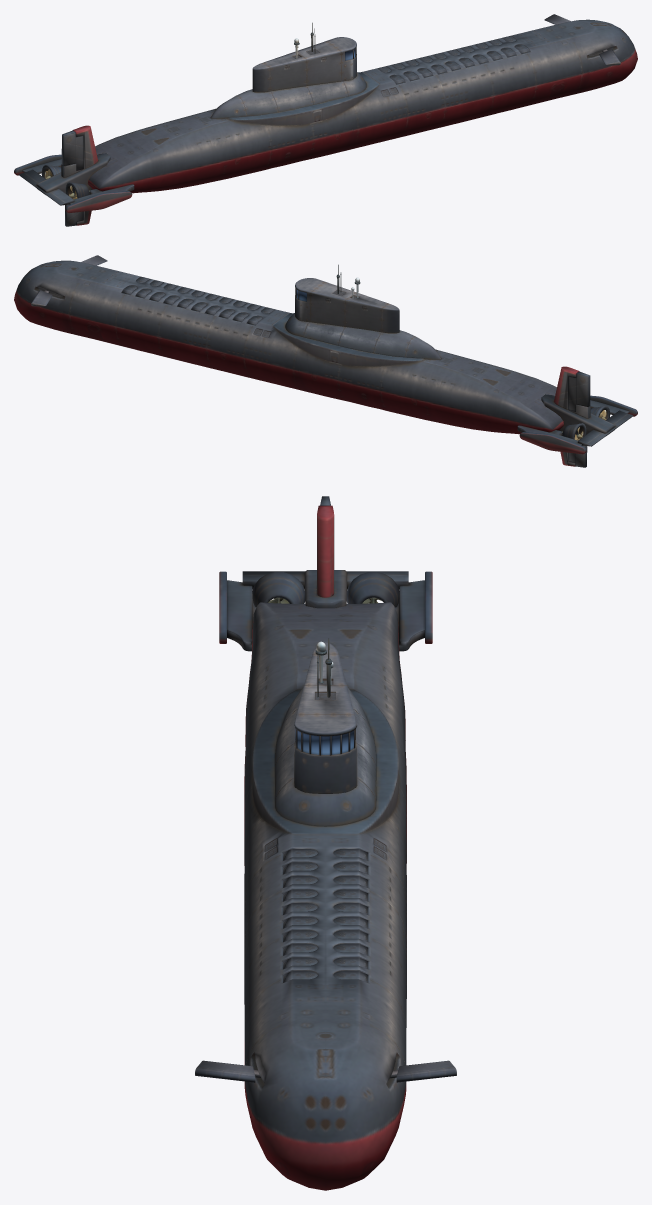
The model's file is submarine-hand-painted.glb.
3 views of the same model, one above another, from view 1: azimuth 30°, elevation 25°; view 2: azimuth 150°, elevation 25°; view 3: azimuth 270°, elevation 25° (orthographic). The views are drawn at different scales.
Visible parts, largest first — view 1: Typhoon_Submarine_0, Right_edge_missile_cover_0; view 2: Typhoon_Submarine_0, left_edge_missile_cover1_0; view 3: Typhoon_Submarine_0, left_edge_missile_cover1_0, Right_edge_missile_cover_0, Left_wing_0, Right_wing_0.
Boxes of the visible parts, x1=… form: Typhoon_Submarine_0: x1=14, y1=19, x2=637, y2=226; Right_edge_missile_cover_0: x1=389, y1=65, x2=446, y2=84; Typhoon_Submarine_0: x1=14, y1=260, x2=637, y2=467; left_edge_missile_cover1_0: x1=205, y1=306, x2=262, y2=325; Typhoon_Submarine_0: x1=219, y1=496, x2=432, y2=1190; left_edge_missile_cover1_0: x1=333, y1=849, x2=368, y2=901; Right_edge_missile_cover_0: x1=283, y1=849, x2=317, y2=901; Left_wing_0: x1=390, y1=1060, x2=456, y2=1082; Right_wing_0: x1=195, y1=1060, x2=260, y2=1082.
Size of the model in its own units: 39.87 by 9.26 by 7.62.
Materials: 1 (1 with a texture image).
